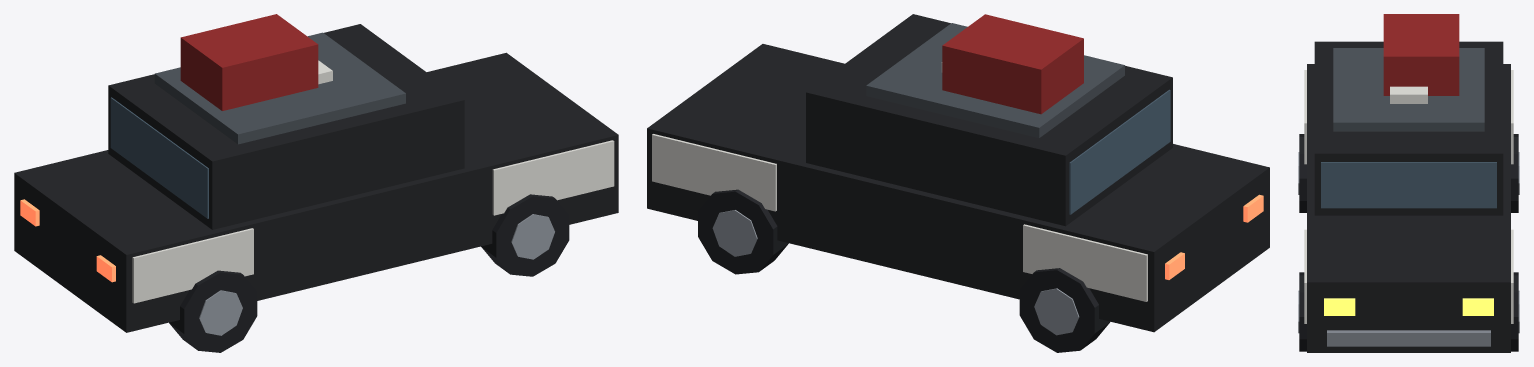
File: taxi_kairo.glb
The picture shows the model from 3 angles, left to right: view 1: azimuth 30°, elevation 25°; view 2: azimuth 150°, elevation 25°; view 3: azimuth 270°, elevation 25°; orthographic projection. The views are drawn at different scales.
Parts seen in each view (by area): view 1: taxi_kairo; view 2: taxi_kairo; view 3: taxi_kairo.
Boxes of the visible parts, box(x1,y1,x2,y2) form: taxi_kairo: box(14, 14, 618, 352); taxi_kairo: box(647, 14, 1269, 352); taxi_kairo: box(1298, 14, 1519, 352).
Size of the model in its own units: 4.18 by 1.9 by 1.76.
